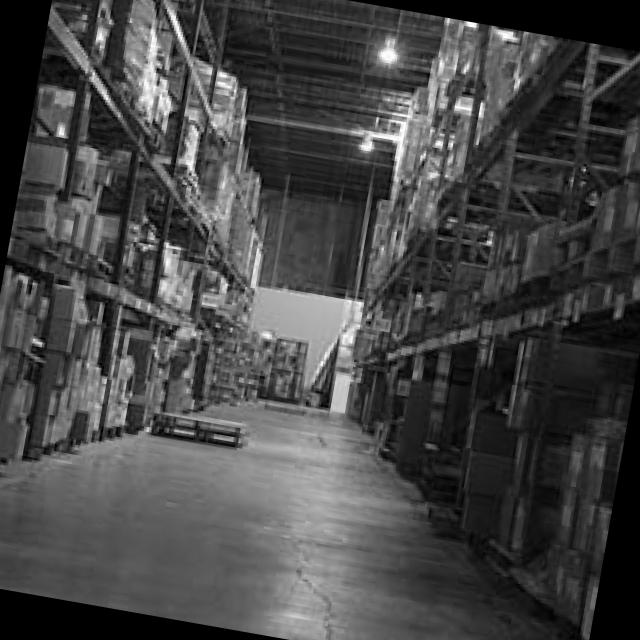boxs: (539, 413, 622, 638), (502, 332, 633, 431), (22, 279, 92, 444), (580, 105, 640, 269), (487, 217, 556, 294), (99, 325, 134, 424)
ceiling beam: (182, 0, 481, 203)
floor -X: (0, 394, 558, 640)
lamp crop: (374, 29, 396, 65), (356, 129, 371, 150)
package: (197, 55, 263, 217), (172, 0, 220, 62)
pallet: (151, 408, 244, 444), (20, 433, 73, 460), (99, 423, 124, 436)
shelves crop: (345, 24, 640, 640), (0, 0, 260, 472)
wall clock: (226, 188, 376, 408)
